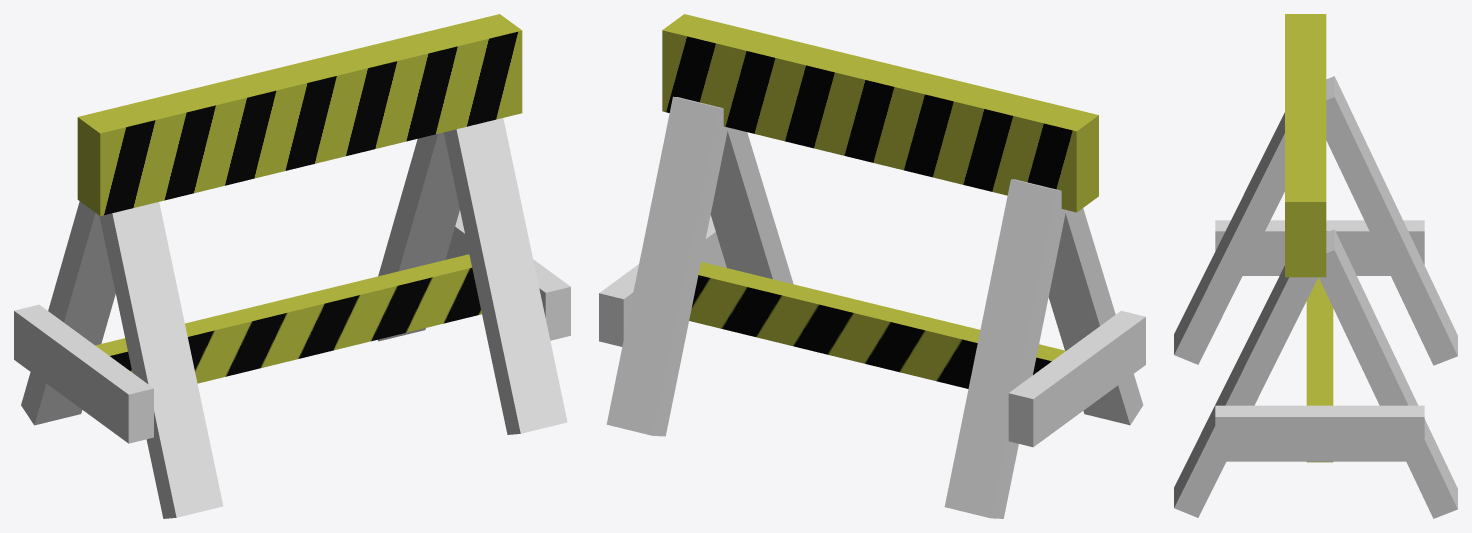
File: Roadblock.fbx
3 renders of one model, left to right at view 1: azimuth 30°, elevation 25°; view 2: azimuth 150°, elevation 25°; view 3: azimuth 270°, elevation 25°, orthographic. The views are drawn at different scales.
Visible parts, largest first — view 1: Top, Leg-Right_Front, MIddle, Leg_Left_Front, Side_Left, Leg_Left_Back, Leg_Right_Back, Side_Right; view 2: Top, Leg_Right_Back, Leg_Left_Back, MIddle, Side_Left, Leg_Left_Front, Leg-Right_Front, Side_Right; view 3: Side_Right, Top, Leg_Left_Back, Leg_Right_Back, Leg_Left_Front, Leg-Right_Front, Side_Left, MIddle.
Boxes of the visible parts, x1,y1,x2,y2 form: Top: [77, 14, 522, 215]; Leg-Right_Front: [443, 118, 567, 434]; MIddle: [95, 254, 481, 383]; Leg_Left_Front: [99, 202, 223, 518]; Side_Left: [14, 304, 153, 443]; Leg_Left_Back: [21, 201, 115, 425]; Leg_Right_Back: [377, 132, 459, 341]; Side_Right: [445, 210, 570, 340]; Top: [662, 14, 1098, 212]; Leg_Right_Back: [606, 96, 727, 436]; Leg_Left_Back: [944, 179, 1066, 518]; MIddle: [689, 262, 1065, 388]; Side_Left: [1008, 310, 1145, 447]; Leg_Left_Front: [1048, 208, 1143, 425]; Leg-Right_Front: [710, 116, 793, 284]; Side_Right: [599, 215, 726, 346]; Side_Right: [1215, 405, 1424, 461]; Top: [1285, 14, 1326, 277]; Leg_Left_Back: [1326, 76, 1457, 365]; Leg_Right_Back: [1319, 229, 1457, 518]; Leg_Left_Front: [1174, 112, 1284, 364]; Leg-Right_Front: [1174, 265, 1318, 517]; Side_Left: [1215, 220, 1424, 275]; MIddle: [1306, 277, 1333, 462].
Bounding box in the file's own units: 7.47 × 5.74 × 4.55.
